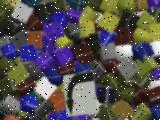Left: (63, 70, 97, 116)
